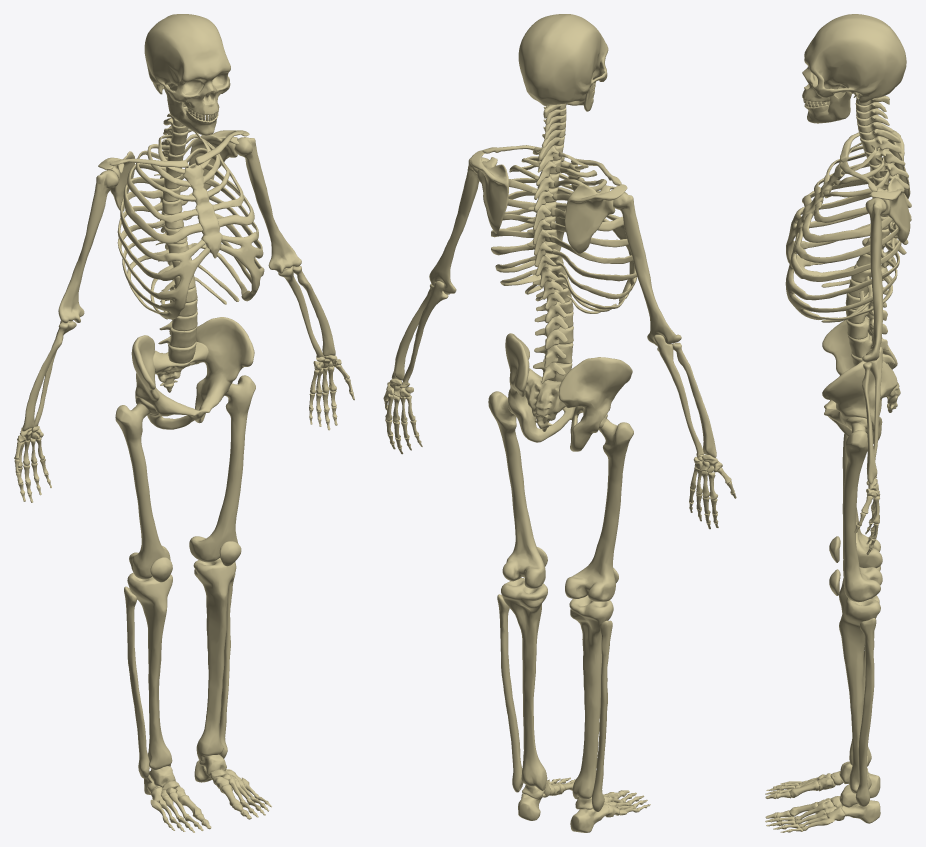
File: human_skeleton-v1.glb
3 views of the same model, side by side, from view 1: azimuth 30°, elevation 25°; view 2: azimuth 150°, elevation 25°; view 3: azimuth 270°, elevation 25° (orthographic). The views are drawn at different scales.
Parts seen in each view (by area): view 1: Object_2; view 2: Object_2; view 3: Object_2.
Boxes of the visible parts, left/top/right/bottom form: Object_2: left=14, top=14, right=354, bottom=832; Object_2: left=383, top=14, right=736, bottom=832; Object_2: left=765, top=14, right=911, bottom=832.
Size of the model in its own units: 7.24 by 15.89 by 2.68.
